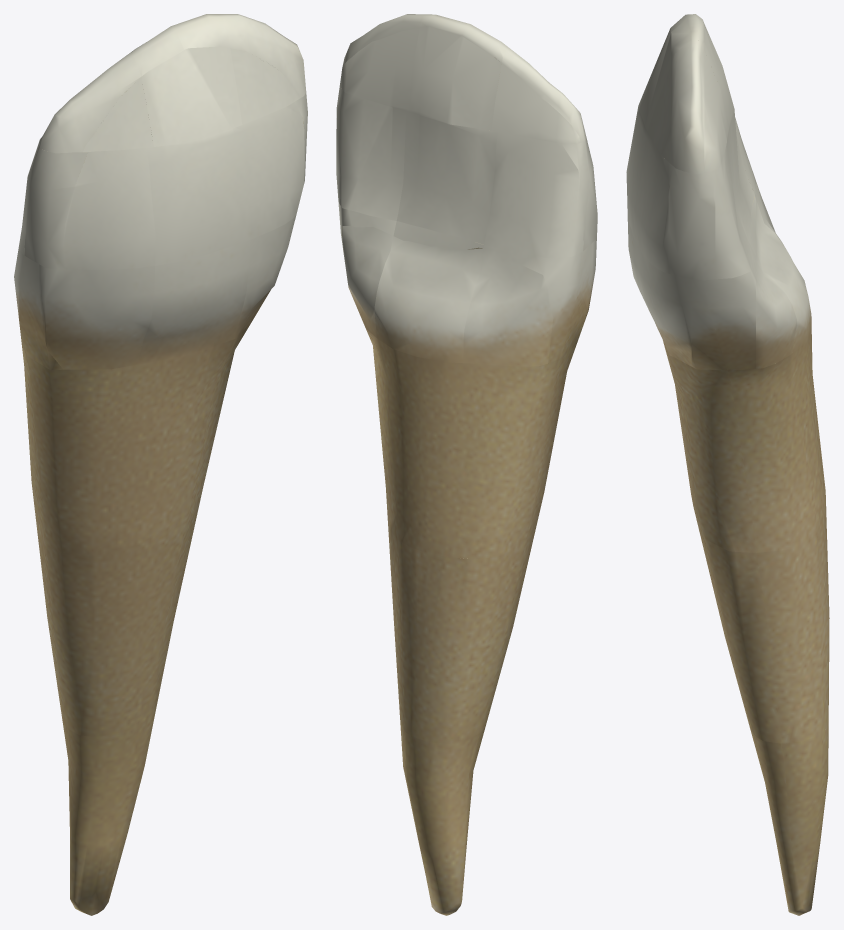
File: Right_Lower_Canine.glb
The picture shows the model from 3 angles, left to right: view 1: azimuth 30°, elevation 25°; view 2: azimuth 150°, elevation 25°; view 3: azimuth 270°, elevation 25°; orthographic projection. The views are drawn at different scales.
Visible parts, largest first — view 1: Human_Teeth_Lower_Canine.002; view 2: Human_Teeth_Lower_Canine.002; view 3: Human_Teeth_Lower_Canine.002.
Part boxes in pixels (box(x1,y1,x2,y2)): Human_Teeth_Lower_Canine.002: box(14, 14, 307, 915); Human_Teeth_Lower_Canine.002: box(336, 14, 597, 915); Human_Teeth_Lower_Canine.002: box(626, 14, 829, 915).
Bounding box in the file's own units: 1.1 × 3.53 × 0.7112.
Materials: 30 (30 with a texture image).
